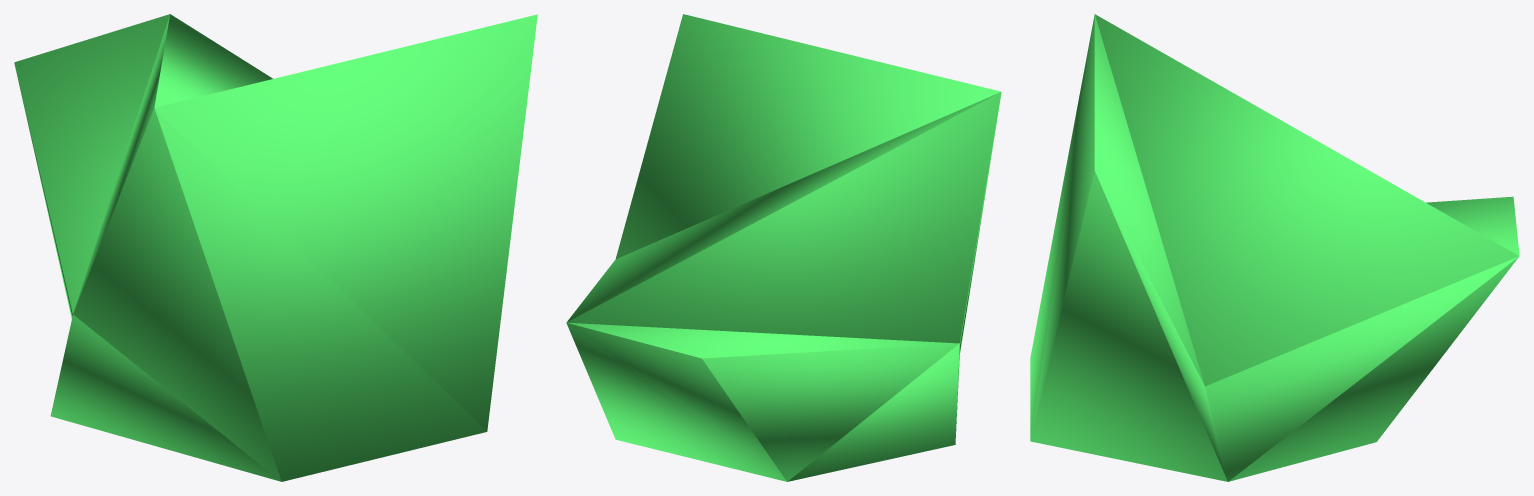
3 renders of one model, left to right at view 1: azimuth 30°, elevation 25°; view 2: azimuth 150°, elevation 25°; view 3: azimuth 270°, elevation 25°, orthographic. The views are drawn at different scales.
Visible parts, largest first — view 1: Mesh_0; view 2: Mesh_0; view 3: Mesh_0.
Boxes of the visible parts, left/top/right/bottom form: Mesh_0: left=14, top=14, right=537, bottom=481; Mesh_0: left=566, top=14, right=1001, bottom=481; Mesh_0: left=1030, top=14, right=1519, bottom=481.
Size of the model in its own units: 0.2083 by 0.1695 by 0.2445.
